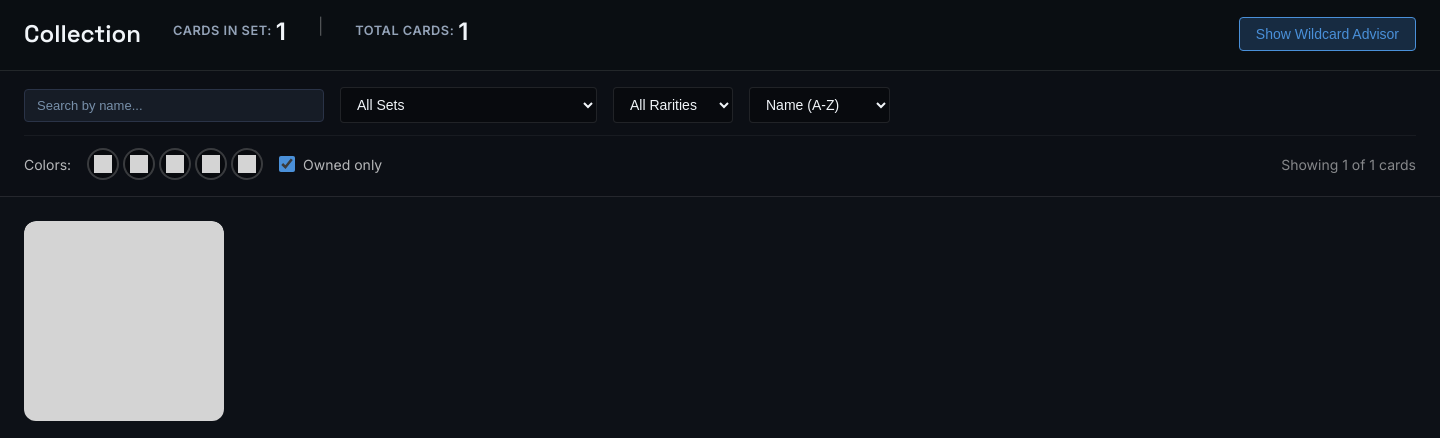
Collection › Set Completion Panel › should show Set Completion button when a set is selected (#756)
The image size is (1440, 438).
Check: the heading "Collection" is shown, box [24, 16, 141, 52]
// Select a set from the dropdown
Select "Strixhaven Mystical Archive (STA)" in the dropdown with test id "collection-set-filter" at x=468, y=105, box [340, 87, 597, 123]
Wait 100 ms
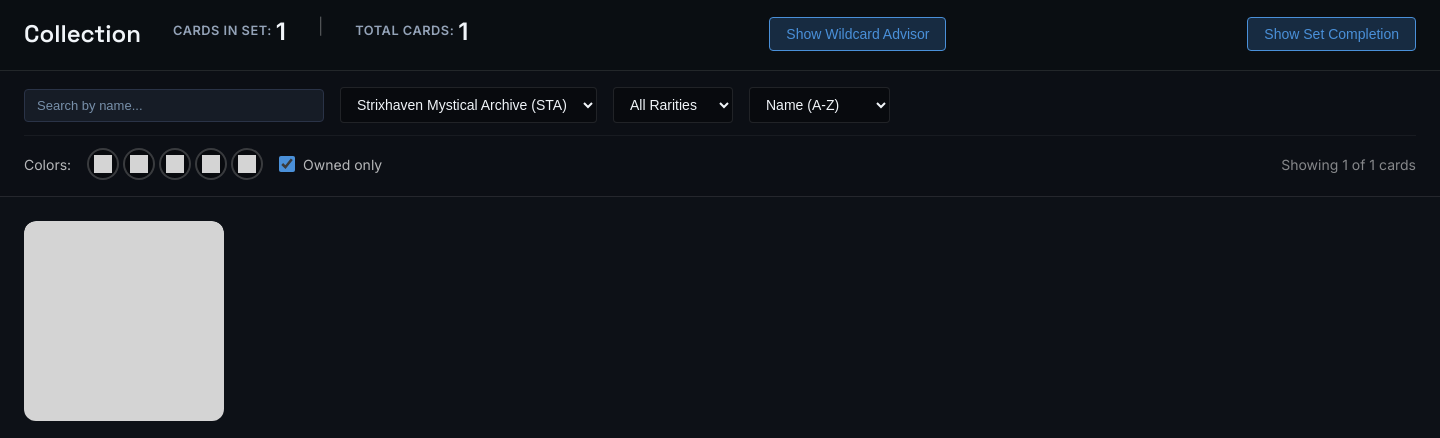
Check: the button "Show Set Completion" is shown, box [1247, 17, 1416, 51]
